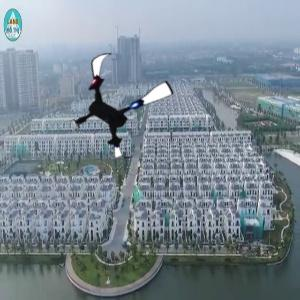drone: (66, 49, 178, 161)
